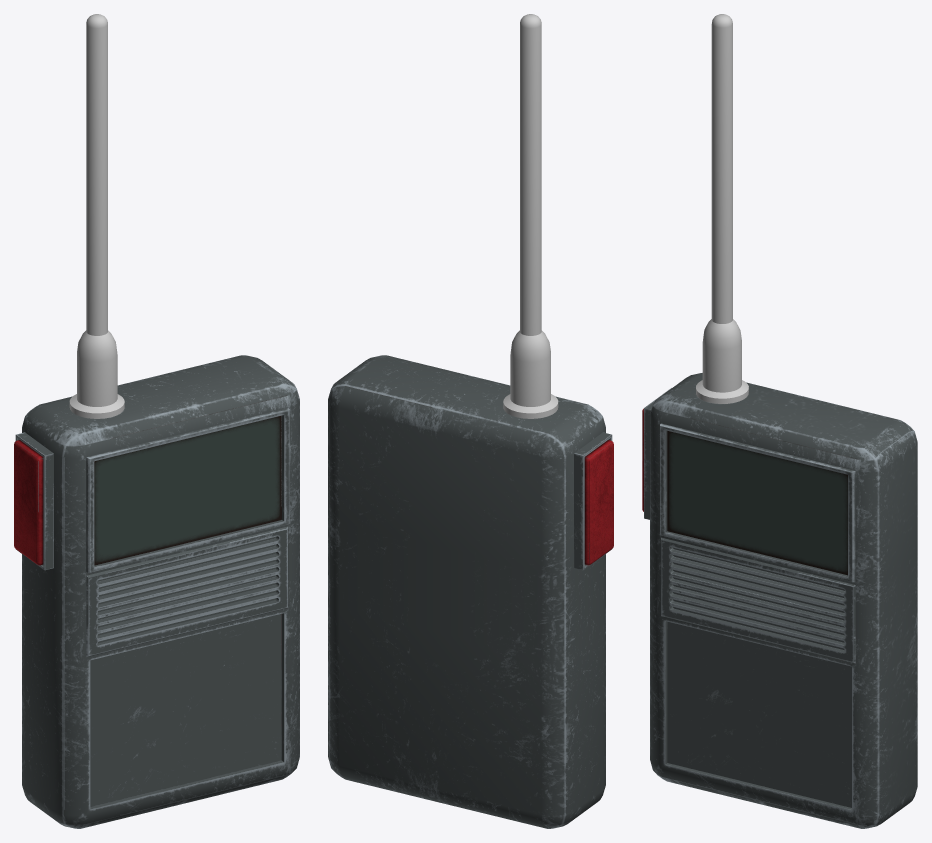
Rendered from 무전기.FBX.
3 views of the same model, side by side, from view 1: azimuth 30°, elevation 25°; view 2: azimuth 150°, elevation 25°; view 3: azimuth 330°, elevation 25° (orthographic). The views are drawn at different scales.
Visible parts, largest first — view 1: Cube, Цилиндр; view 2: Cube, Цилиндр; view 3: Cube, Цилиндр.
Boxes of the visible parts, left/top/right/bottom form: Cube: left=14, top=355, right=299, bottom=828; Цилиндр: left=69, top=14, right=124, bottom=418; Cube: left=328, top=355, right=613, bottom=828; Цилиндр: left=503, top=14, right=558, bottom=418; Cube: left=642, top=373, right=917, bottom=828; Цилиндр: left=696, top=14, right=748, bottom=403.
Bounding box in the file's own units: 16.81 × 49.45 × 6.22.
